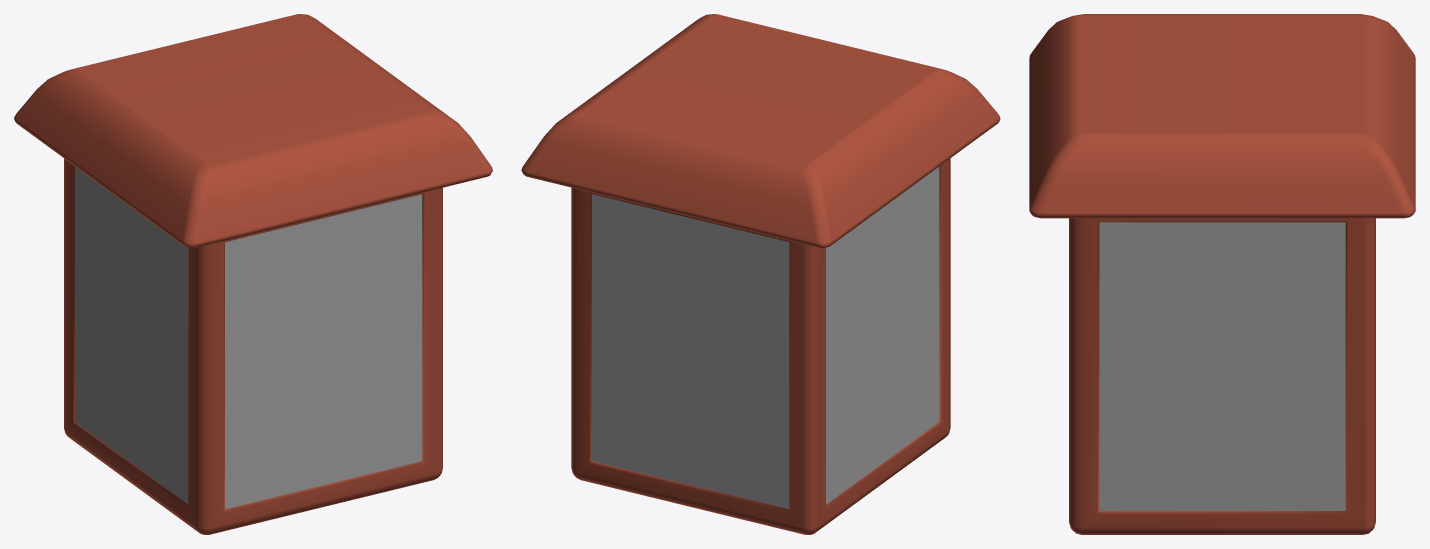
File: Popcornmachine.fbx
The picture shows the model from 3 angles, left to right: view 1: azimuth 30°, elevation 25°; view 2: azimuth 150°, elevation 25°; view 3: azimuth 270°, elevation 25°; orthographic projection. The views are drawn at different scales.
Visible parts, largest first — view 1: Popcornmachineeeee2; view 2: Popcornmachineeeee2; view 3: Popcornmachineeeee2.
Part boxes in pixels (x1=…): Popcornmachineeeee2: x1=14, y1=14, x2=492, y2=534; Popcornmachineeeee2: x1=521, y1=14, x2=1000, y2=534; Popcornmachineeeee2: x1=1029, y1=14, x2=1415, y2=534.
Size of the model in its own units: 1.53 by 1.75 by 1.53.
